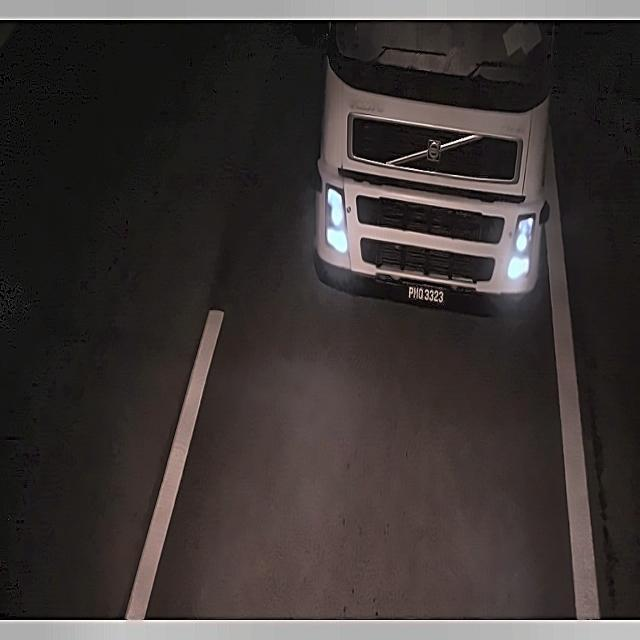car: (400, 276, 452, 314)
